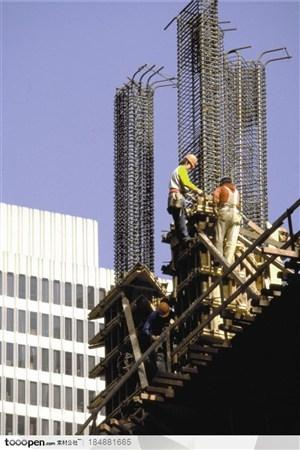helmet: (184, 152, 199, 171), (158, 300, 169, 318)
